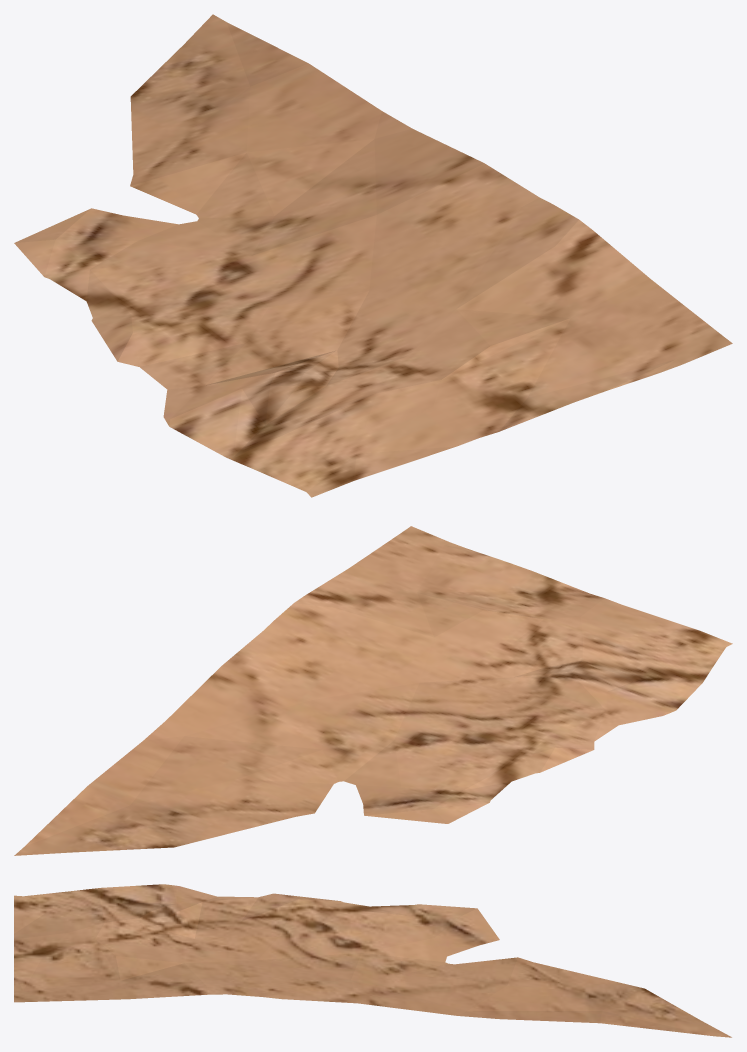
The picture shows the model from 3 angles, top to bottom: view 1: azimuth 30°, elevation 25°; view 2: azimuth 150°, elevation 25°; view 3: azimuth 270°, elevation 25°; orthographic projection. The views are drawn at different scales.
Size of the model in its own units: 0.2581 by 0.034 by 0.5105.
Materials: 1 (1 with a texture image).
